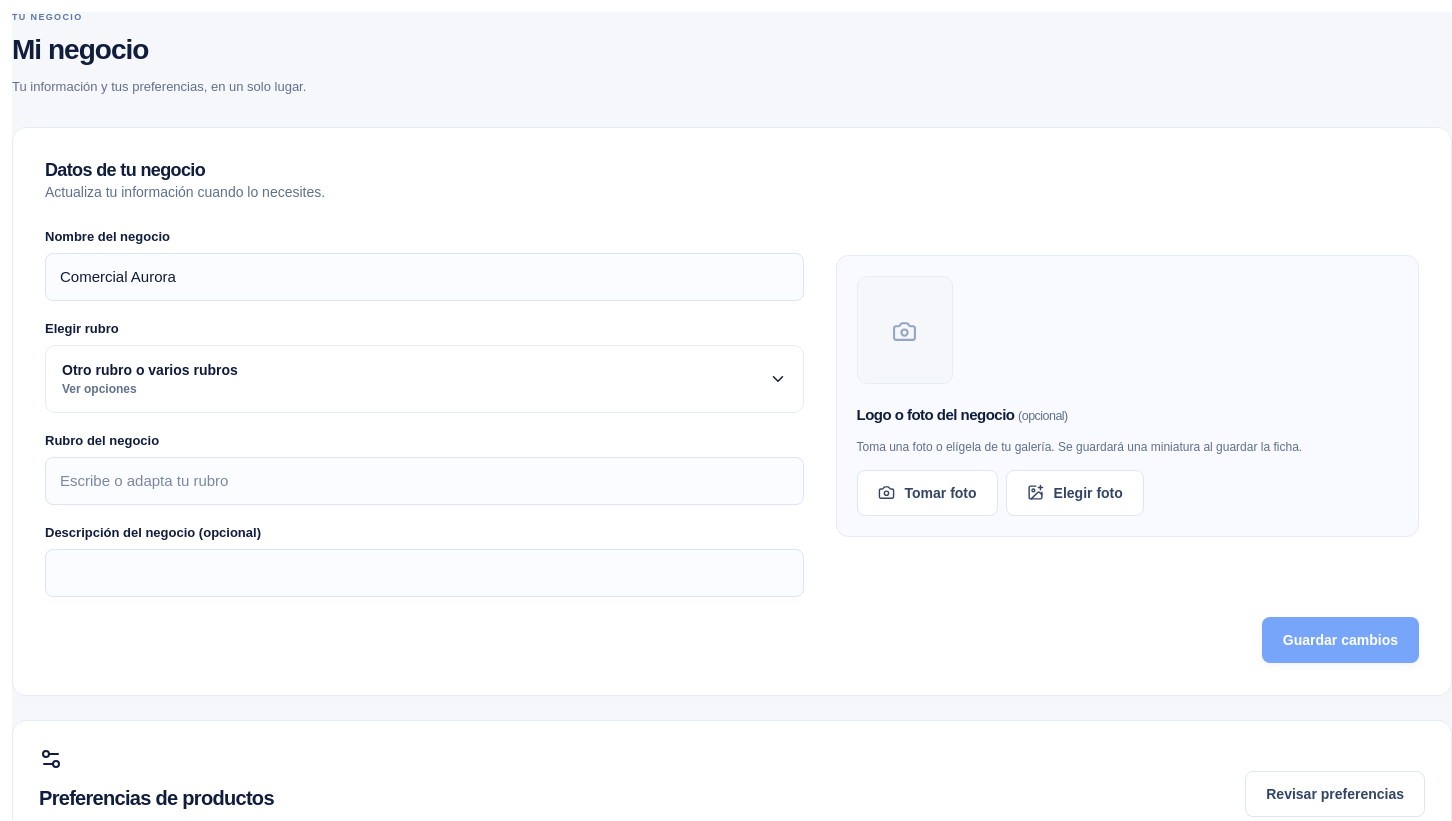
Test: guarda el negocio y actualiza el nombre compartido sin recargar la sesión
Replace the text in the field labelled "Nombre del negocio" with " Flores y regalos ". click: (424,276)
box: [45,252,804,300]
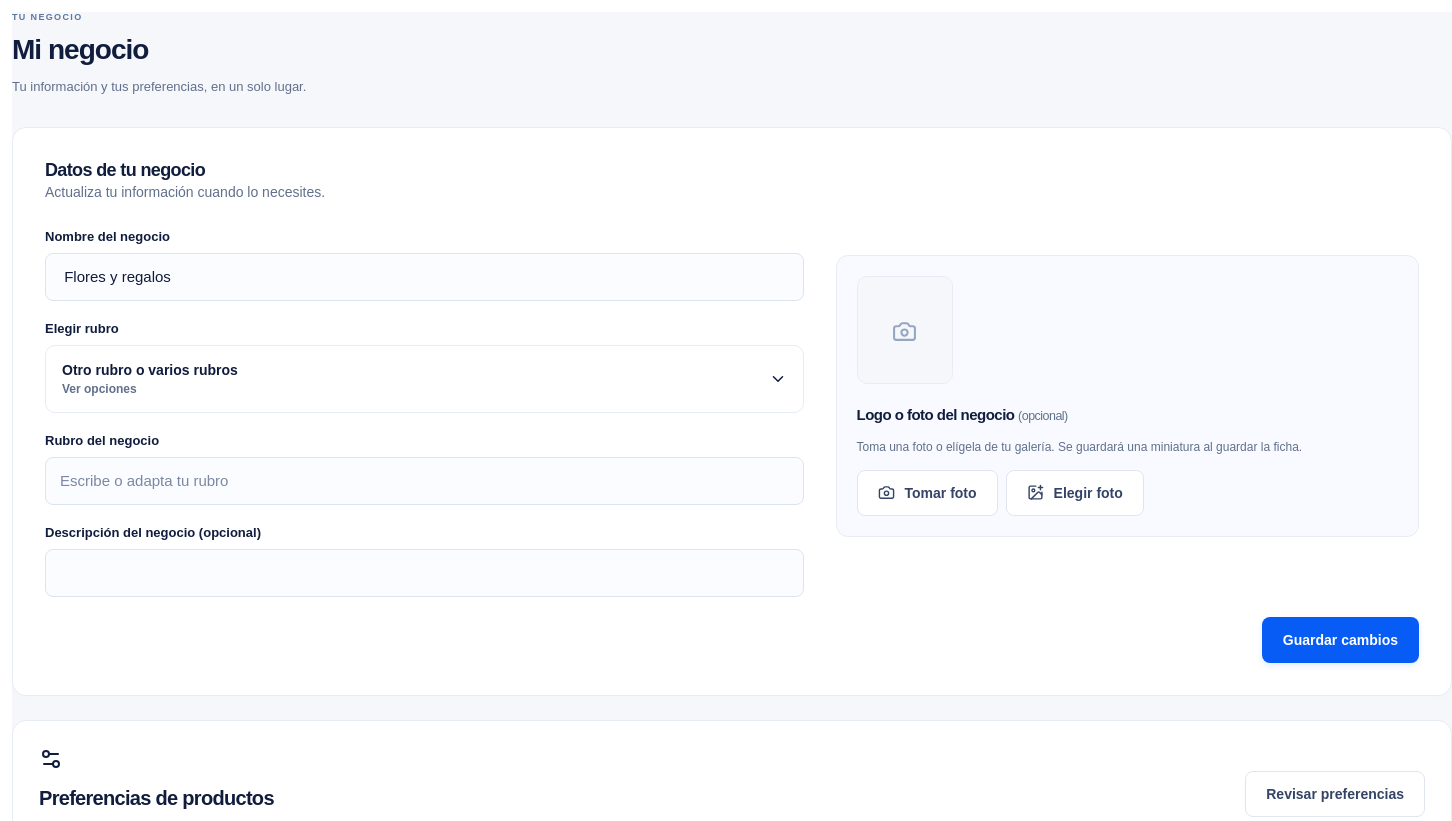
Click the button "Guardar cambios". click: (1340,640)
box: [1262,616,1419,662]
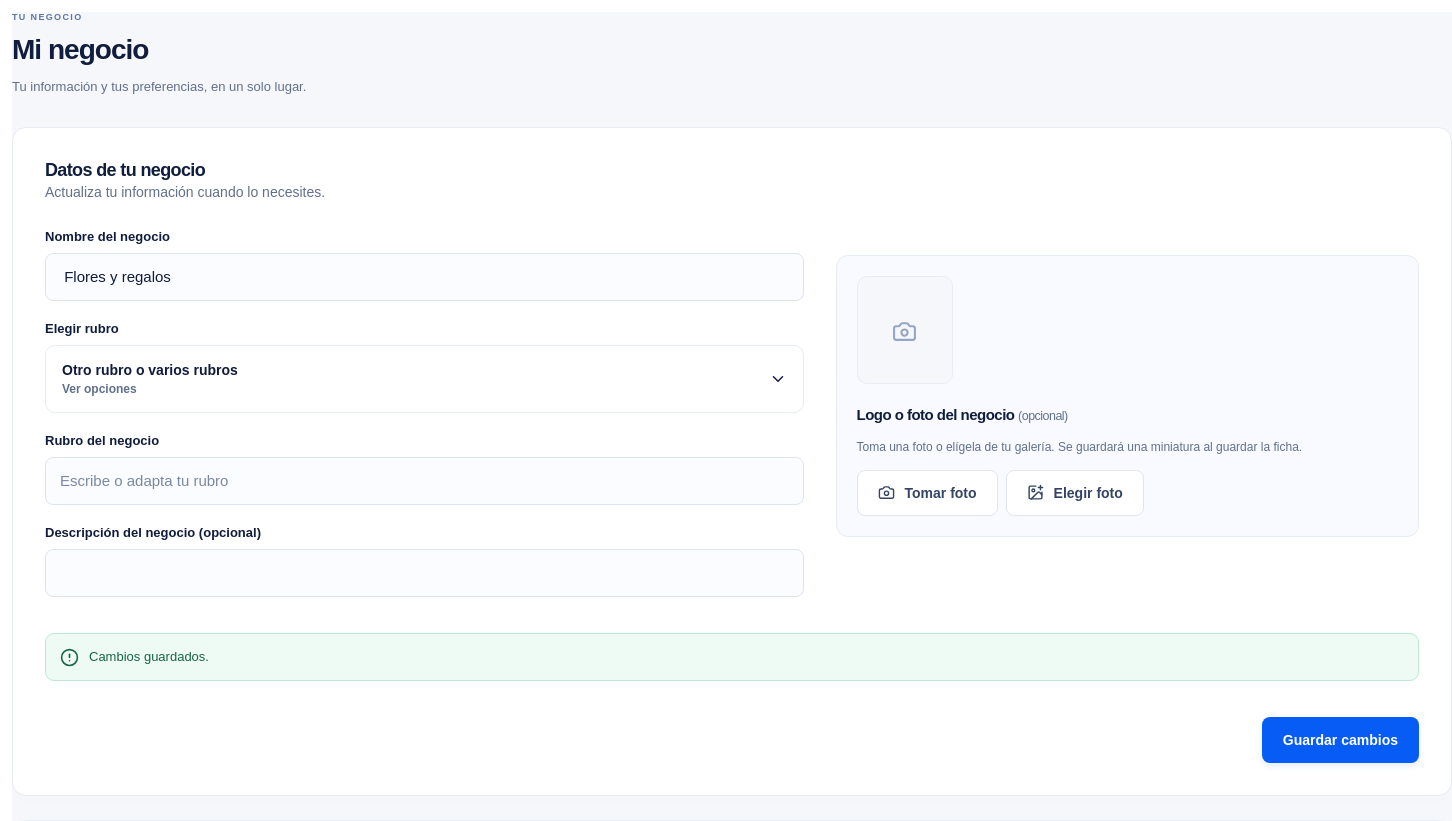
Result: the text "Cambios guardados." is shown at [89,646,209,666]
